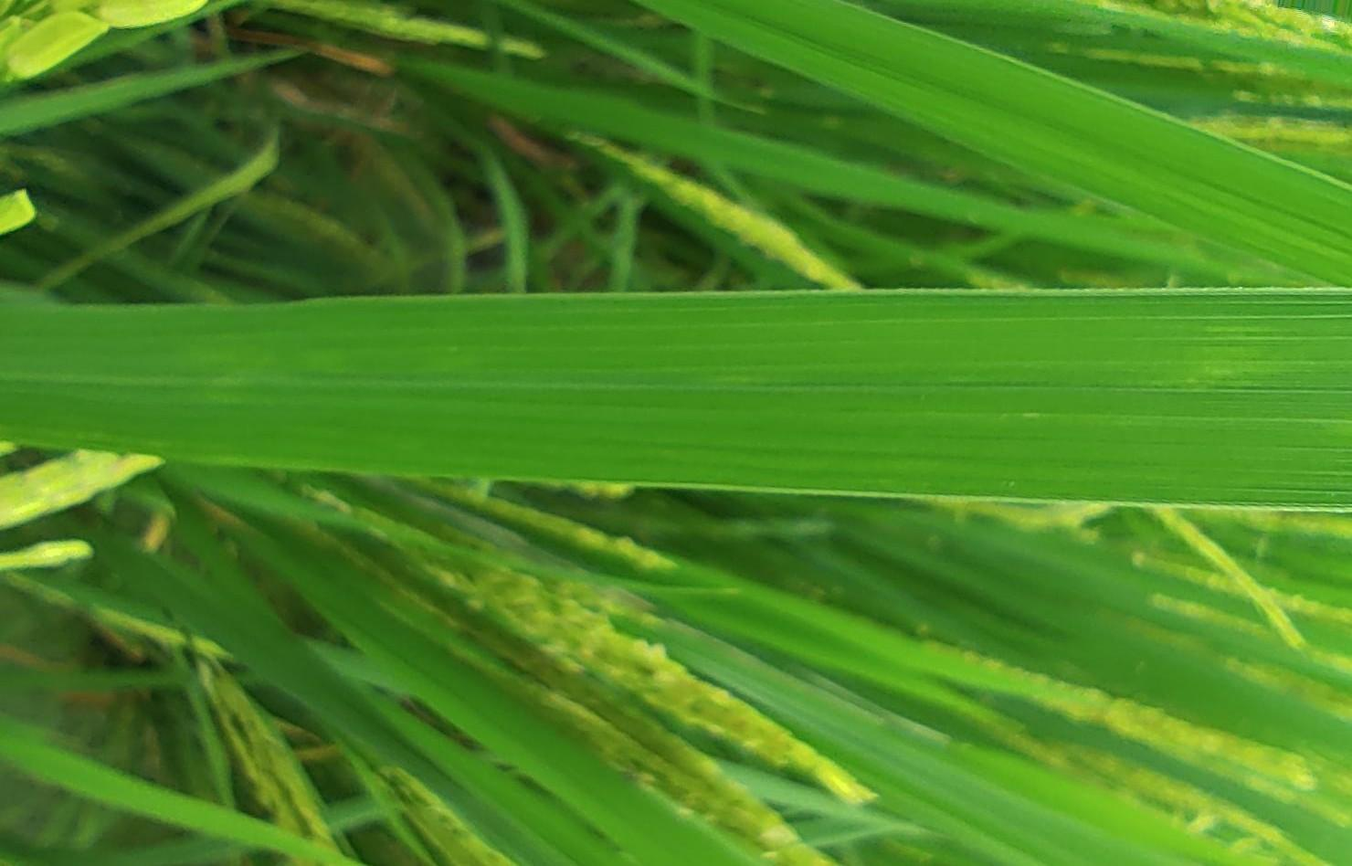Healthy: (0, 288, 1351, 509)
